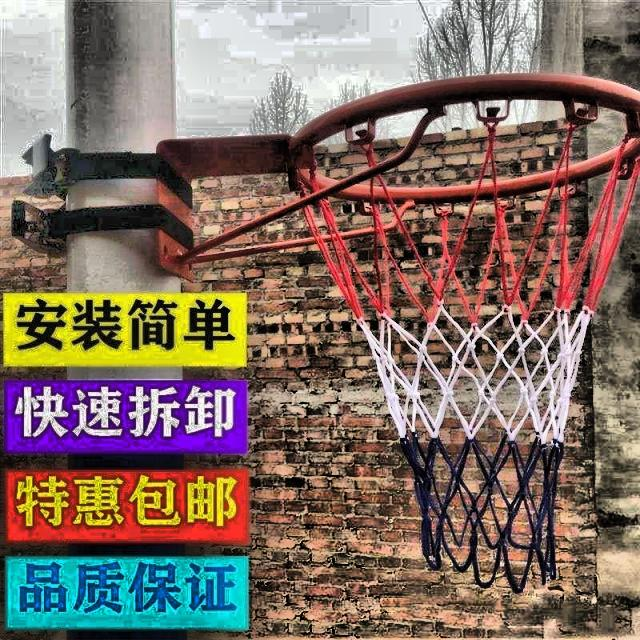rim: (293, 75, 640, 594)
